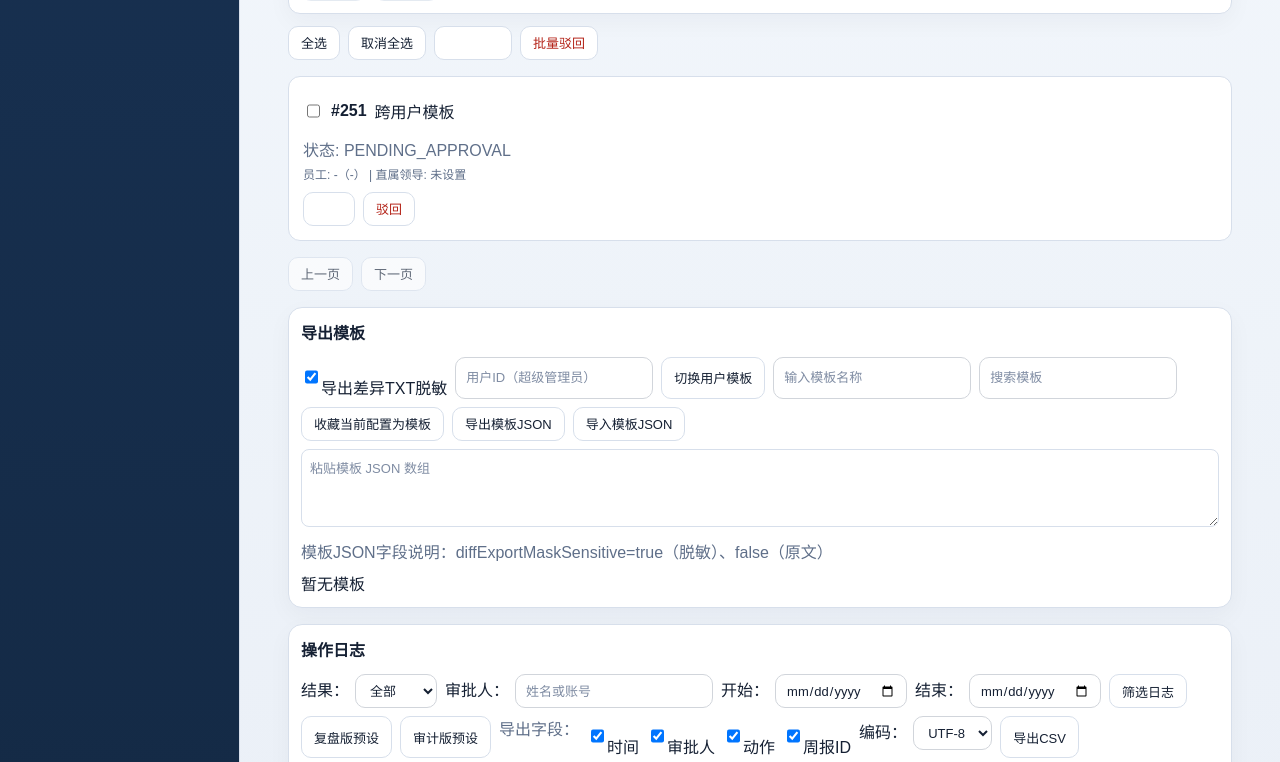
Test: ManagerReviewsPage › super admin can switch template owner scope
This screenshot has width=1280, height=762.
(page scrolled)
Expected: the text "跨用户模板" is shown, x1=375 y1=104 x2=455 y2=120
Step 1. Type "99" into the field named "模板用户ID" → x=554, y=378, box x1=455 y1=357 x2=653 y2=399
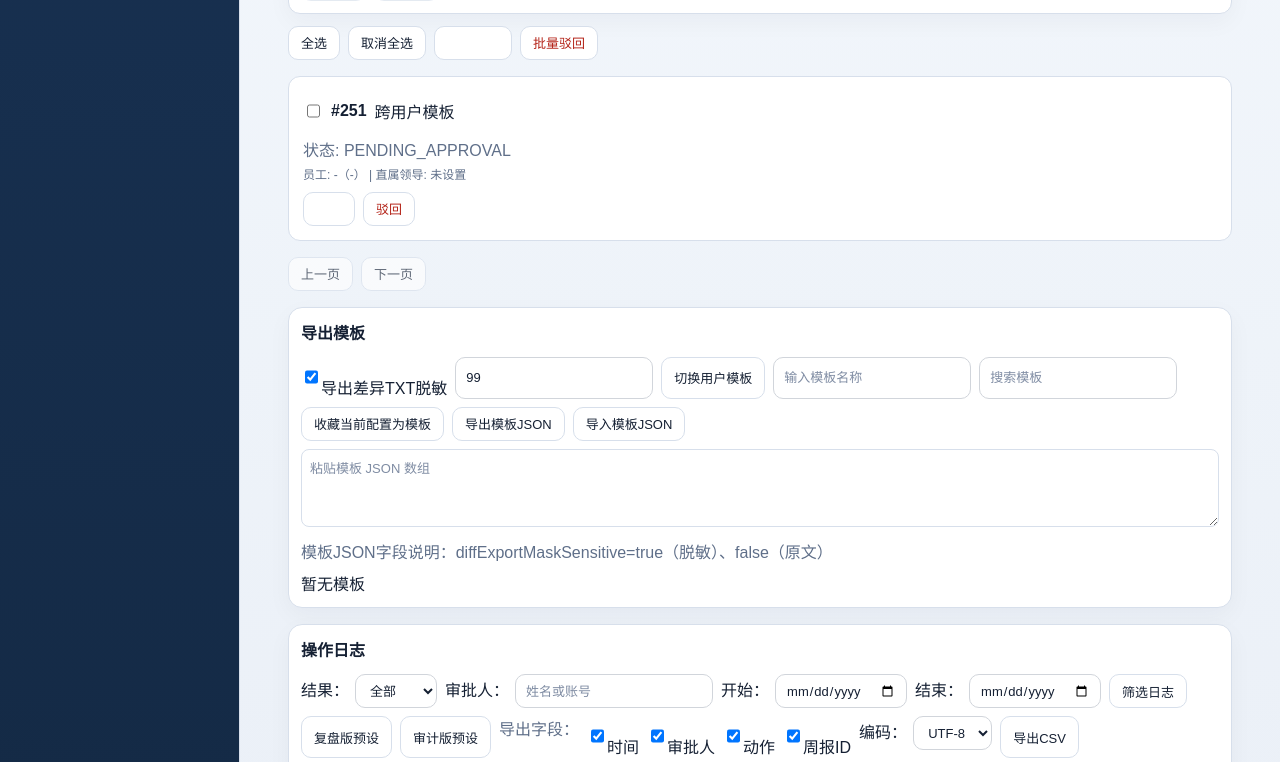
Step 2. Click the button "切换用户模板" → x=713, y=378, box x1=661 y1=357 x2=765 y2=399
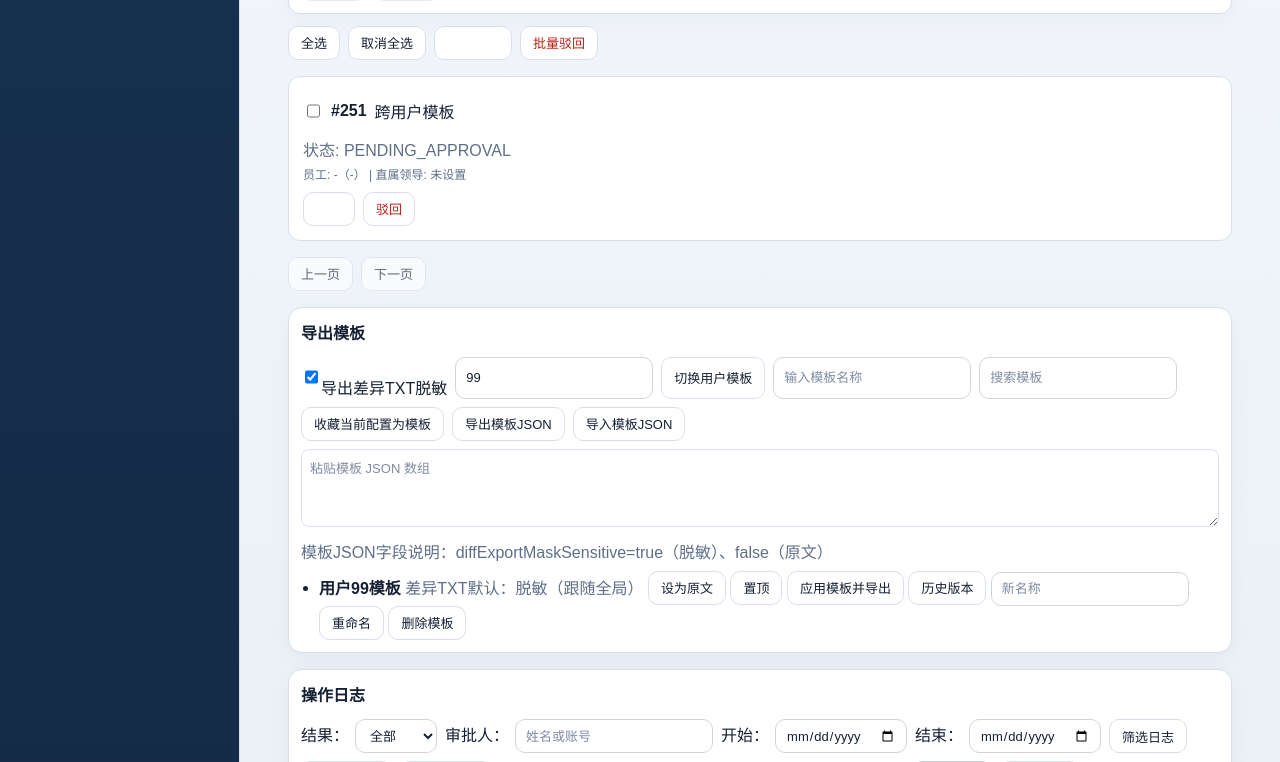
Expected: the text "用户99模板" is shown, x1=319 y1=579 x2=401 y2=596
